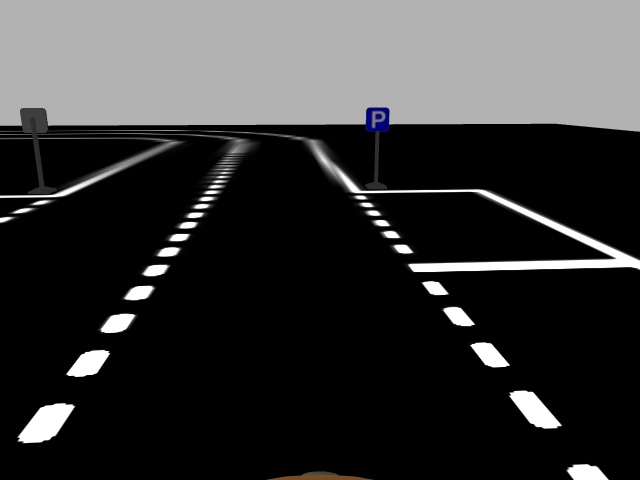parking: (365, 106, 389, 131)
